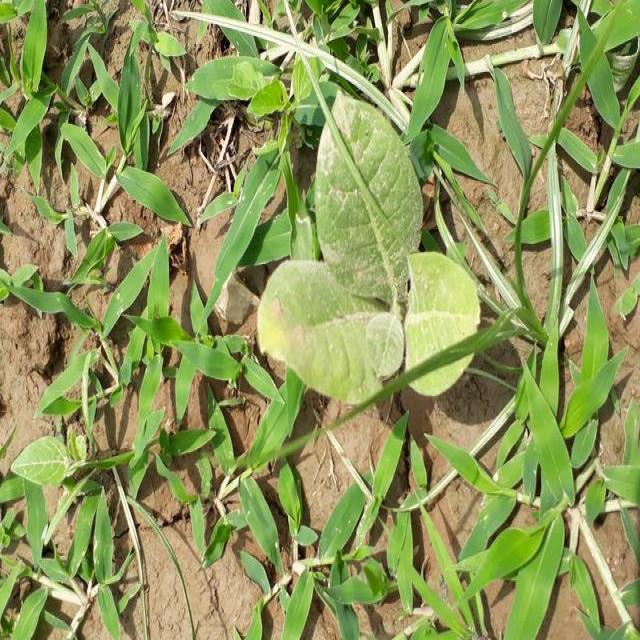crop: (255, 72, 487, 412)
